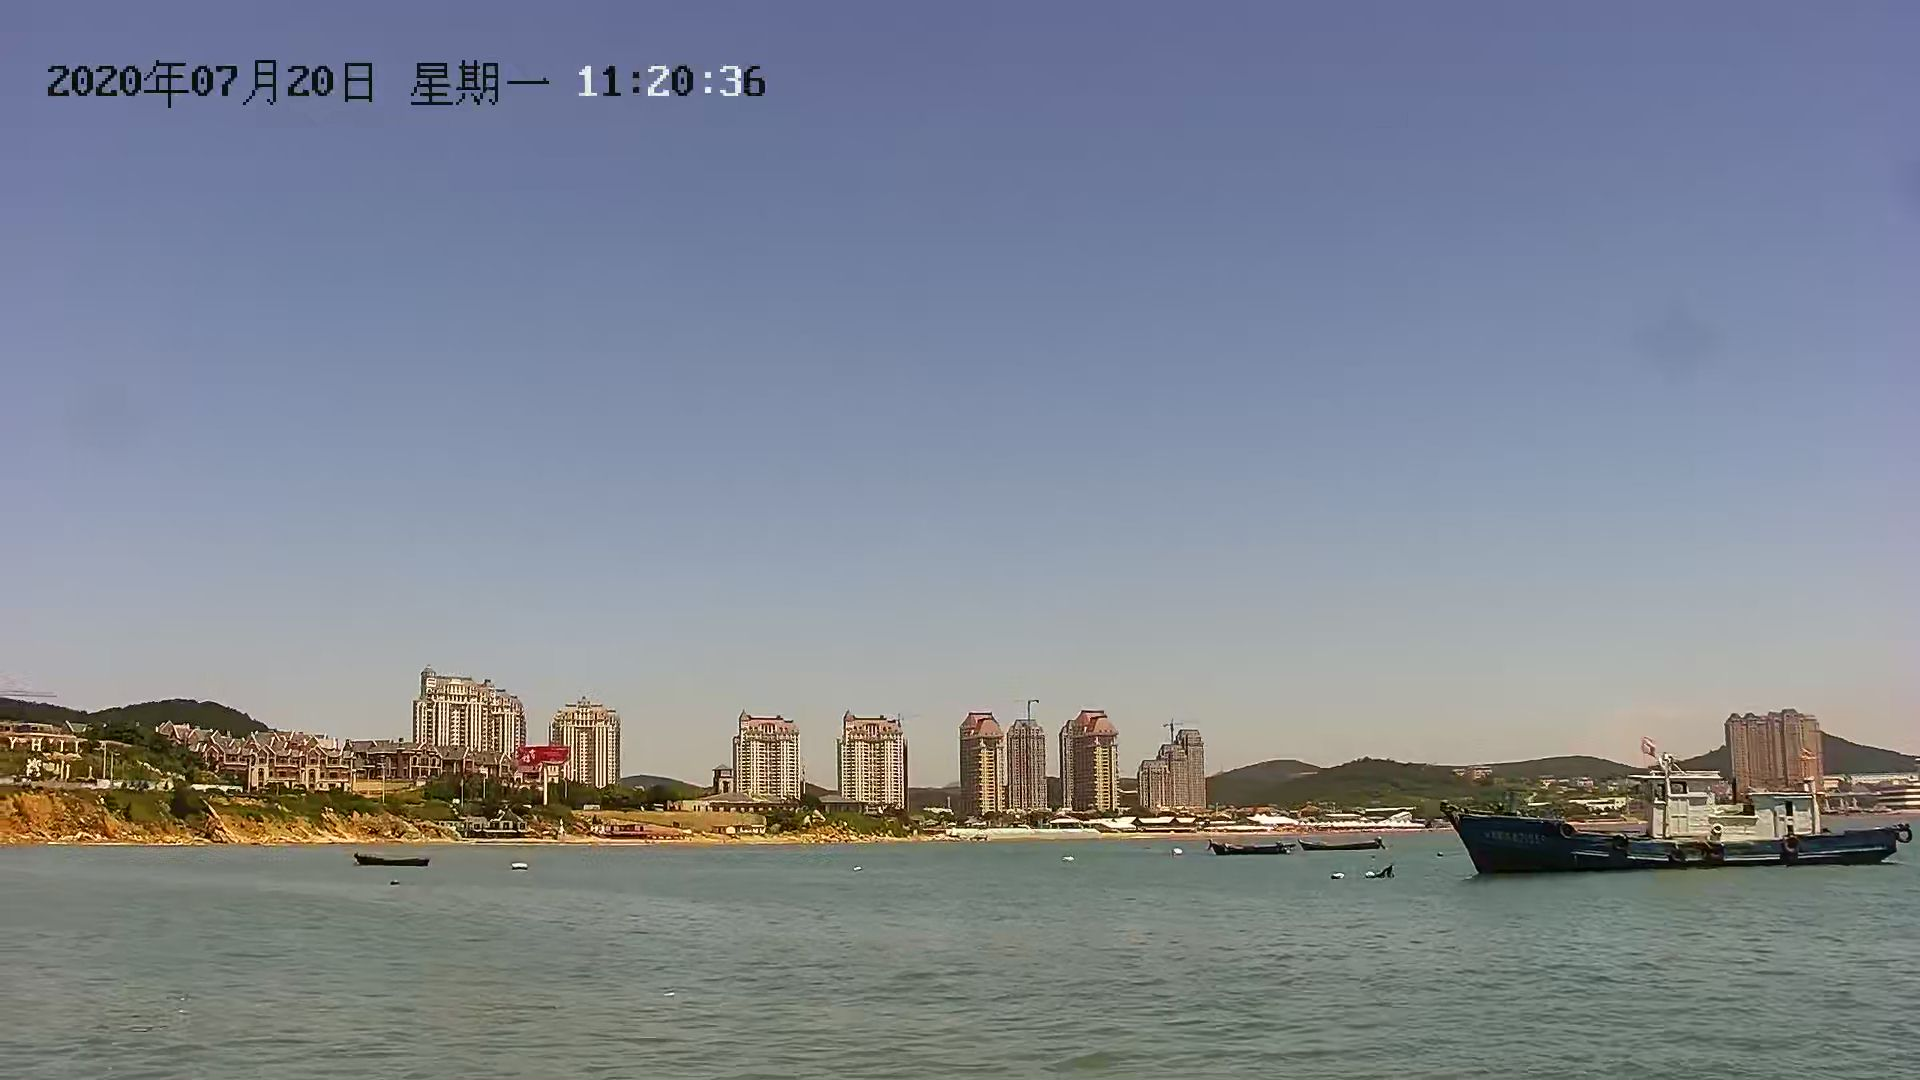boat: (1203, 829, 1295, 861), (344, 845, 436, 872), (1296, 836, 1395, 855)
ship: (1431, 750, 1904, 868)
